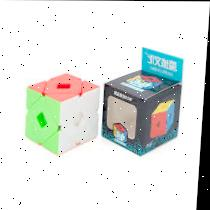cube: (25, 73, 102, 156)
